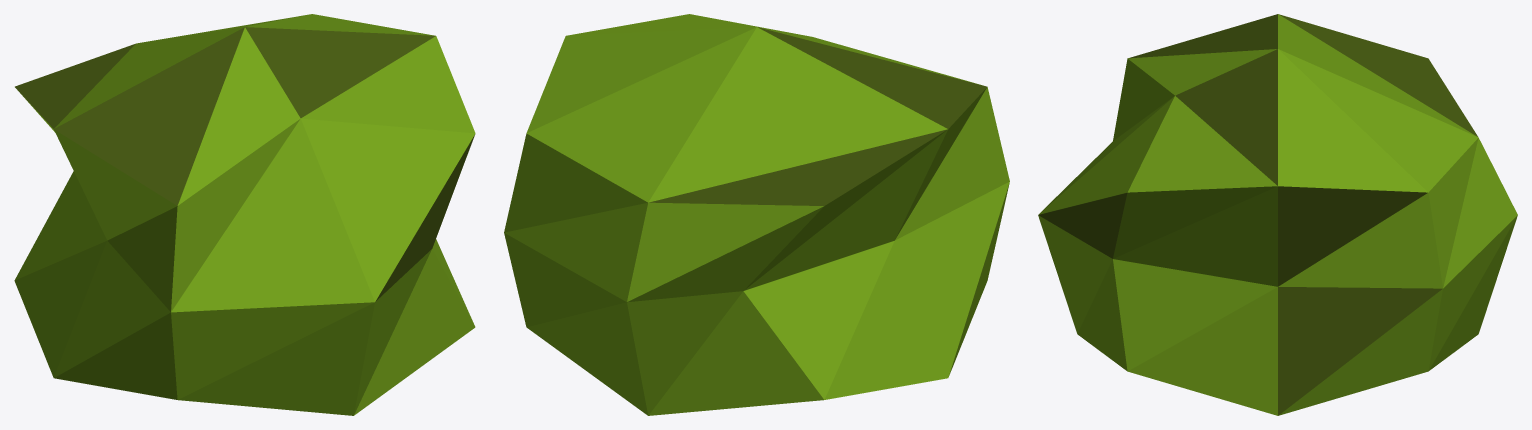
The model's file is Plant_M1_3.fbx.
3 renders of one model, left to right at view 1: azimuth 30°, elevation 25°; view 2: azimuth 150°, elevation 25°; view 3: azimuth 270°, elevation 25°, orthographic. The views are drawn at different scales.
Parts seen in each view (by area): view 1: Plant_M1_3; view 2: Plant_M1_3; view 3: Plant_M1_3.
Boxes of the visible parts, x1,y1,x2,y2 form: Plant_M1_3: (14,14,475,415); Plant_M1_3: (504,14,1009,415); Plant_M1_3: (1038,14,1517,415).
Bounding box in the file's own units: 26.23 × 24.53 × 30.89.
